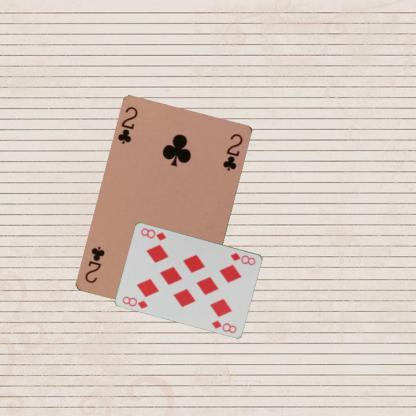2c: (115, 104, 139, 146)
8d: (228, 250, 257, 266), (120, 294, 149, 310)
